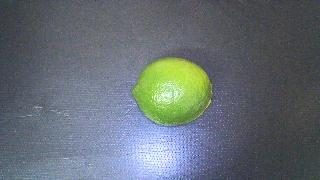EXPORTACION: (133, 57, 213, 126)
